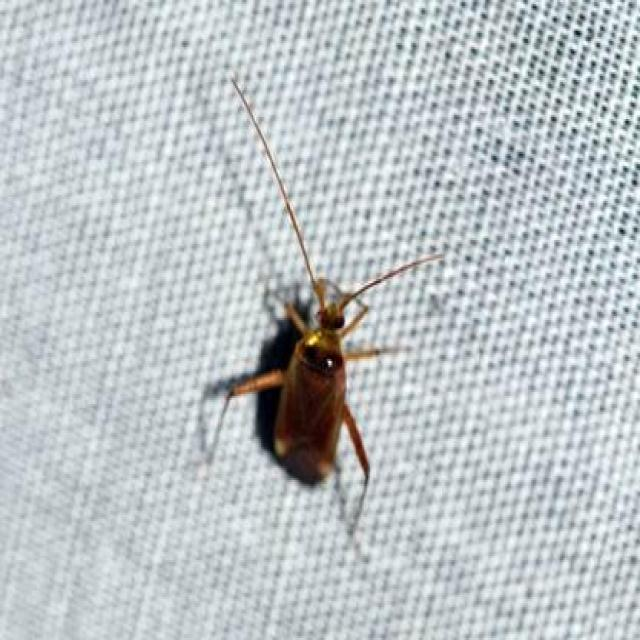Miridae-Adult-: (190, 65, 440, 539)
